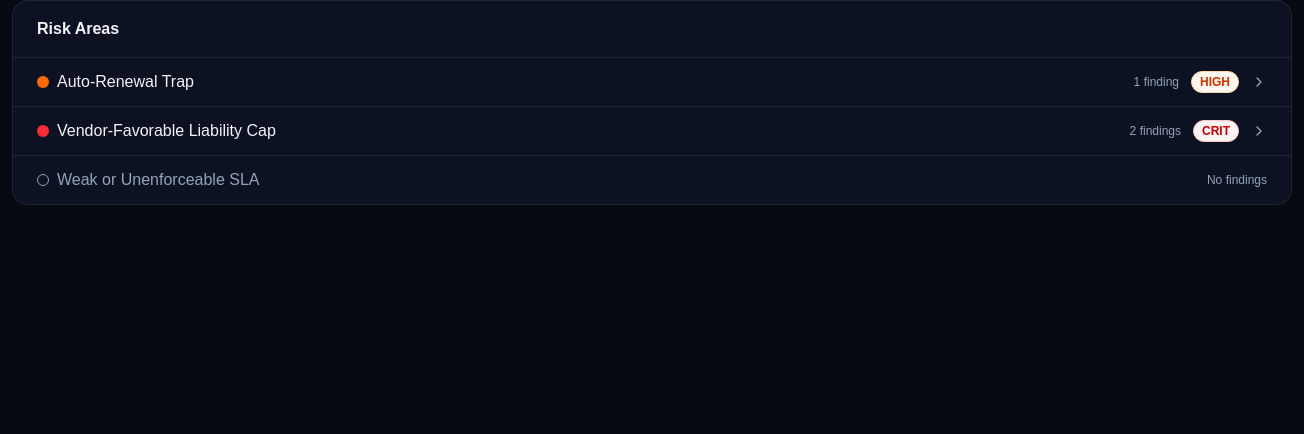
it: RiskAreasPanel › renders absence-based findings with "Missing:" prefix in italic
The width and height of the screenshot is (1304, 434).
What coordinates should you click on to do the following:
click the button "Vendor-Favorable Liability Cap 2 findings CRIT"
I would click on:
 (166, 130)
Its box is [13,107,1291,155].
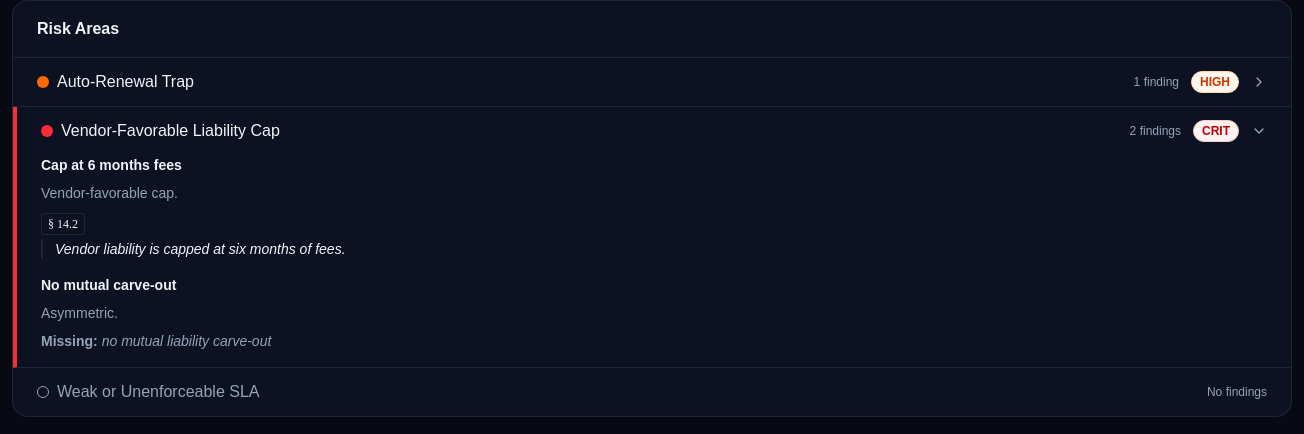
Now the text "Missing:" is shown, box [41,333,98,349]
Now the text "Missing: no mutual liability carve-out" is shown, box [41,333,271,349]
